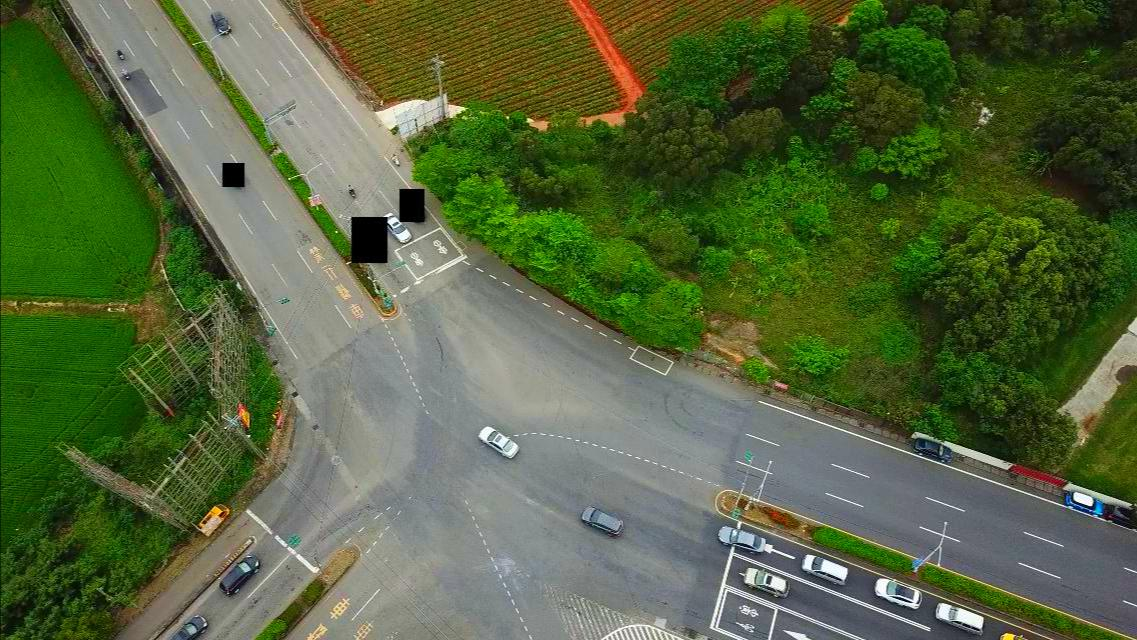vehicle: (220, 554, 260, 596), (933, 601, 985, 633), (743, 566, 791, 599), (874, 577, 923, 609), (477, 426, 520, 459), (717, 526, 766, 554), (802, 555, 849, 584), (580, 506, 624, 535), (912, 437, 952, 462), (170, 614, 210, 639), (1065, 491, 1104, 516), (382, 212, 412, 244), (200, 504, 228, 535), (1105, 504, 1136, 530)
